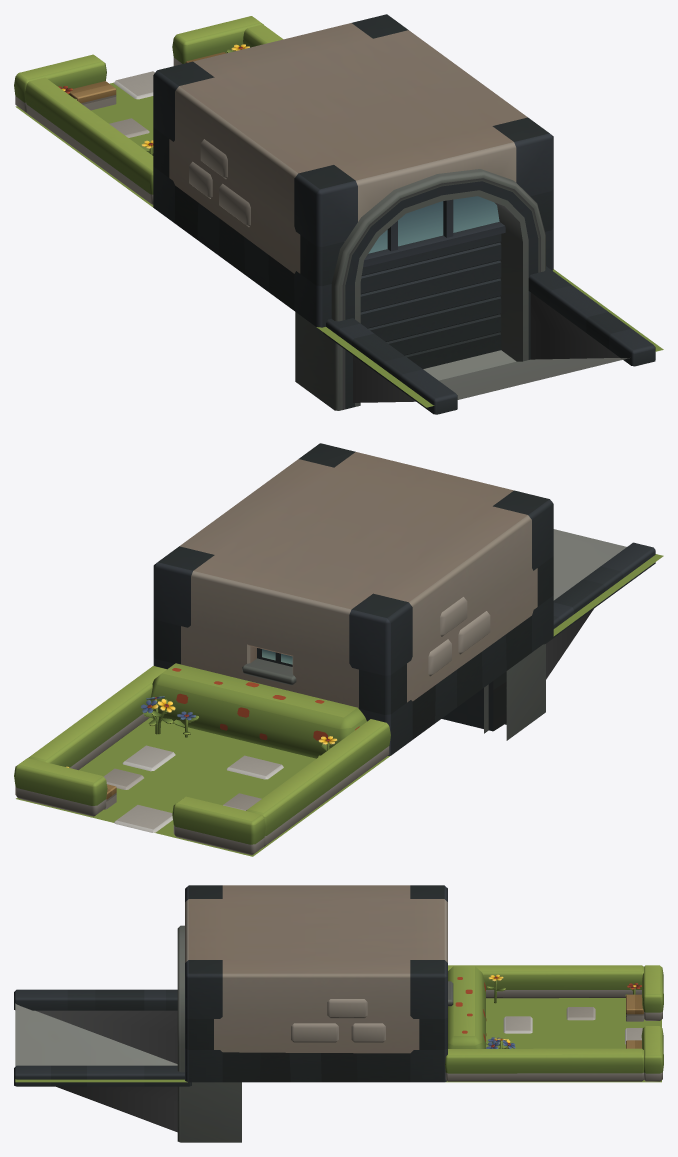
The model's file is garage_ground_cream.fbx.
3 views of the same model, one above another, from view 1: azimuth 30°, elevation 25°; view 2: azimuth 150°, elevation 25°; view 3: azimuth 270°, elevation 25° (orthographic). The views are drawn at different scales.
Parts seen in each view (by area): view 1: garage_ground_cream, door_garage; view 2: garage_ground_cream; view 3: garage_ground_cream.
Boxes of the visible parts, x1,y1,x2,y2 form: garage_ground_cream: (14, 14, 663, 414); door_garage: (360, 234, 501, 368); garage_ground_cream: (14, 443, 663, 856); garage_ground_cream: (14, 885, 663, 1142).
Bounding box in the file's own units: 619 × 533 × 1809.
